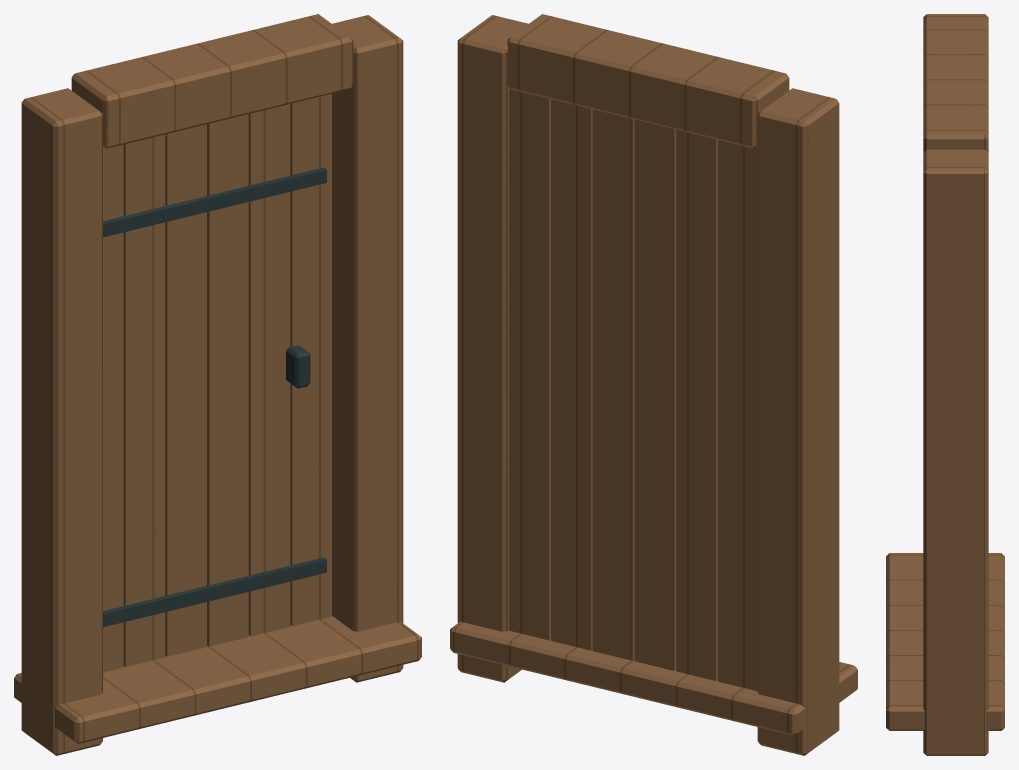
The model's file is door-timber.glb.
3 views of the same model, side by side, from view 1: azimuth 30°, elevation 25°; view 2: azimuth 150°, elevation 25°; view 3: azimuth 270°, elevation 25° (orthographic). The views are drawn at different scales.
Visible parts, largest first — view 1: SM_Door_Jamb, SM_Door_Jamb.001, SM_Door_Lintel, SM_Door_Threshold, SM_Door_Plank.001, SM_Door_Plank.004, SM_Door_Plank.002, SM_Door_Plank.003, SM_Door_Plank.005, SM_Door_Plank, SM_Door_Strap, SM_Door_Strap.001 (+1 smaller); view 2: SM_Door_Jamb, SM_Door_Jamb.001, SM_Door_Plank.003, SM_Door_Plank.002, SM_Door_Plank.005, SM_Door_Plank.004, SM_Door_Plank.001, SM_Door_Plank, SM_Door_Lintel, SM_Door_Threshold; view 3: SM_Door_Jamb.001, SM_Door_Threshold, SM_Door_Lintel, SM_Door_Jamb.
Boxes of the visible parts, x1,y1,x2,y2 form: SM_Door_Jamb: (21,88,102,755); SM_Door_Jamb.001: (332,15,403,682); SM_Door_Lintel: (71,14,353,148); SM_Door_Threshold: (14,616,421,743); SM_Door_Plank.001: (123,134,165,666); SM_Door_Plank.004: (248,104,290,636); SM_Door_Plank.002: (165,124,206,656); SM_Door_Plank.003: (207,114,248,646); SM_Door_Plank.005: (290,94,331,626); SM_Door_Plank: (103,144,123,672); SM_Door_Strap: (103,557,326,627); SM_Door_Strap.001: (103,167,326,237); SM_Door_Jamb: (757,88,839,755); SM_Door_Jamb.001: (457,15,528,682); SM_Door_Plank.003: (592,109,634,660); SM_Door_Plank.002: (634,119,676,670); SM_Door_Plank.005: (509,88,550,640); SM_Door_Plank.004: (551,99,592,650); SM_Door_Plank.001: (676,130,717,680); SM_Door_Plank: (718,140,757,691); SM_Door_Lintel: (507,14,789,148); SM_Door_Threshold: (450,621,857,735); SM_Door_Jamb.001: (923,149,988,755); SM_Door_Threshold: (886,553,1004,730); SM_Door_Lintel: (923,24,988,152); SM_Door_Jamb: (923,14,988,27).
Size of the model in its own units: 1.26 by 2.23 by 0.4.
Materials: 2 (1 with a texture image).
